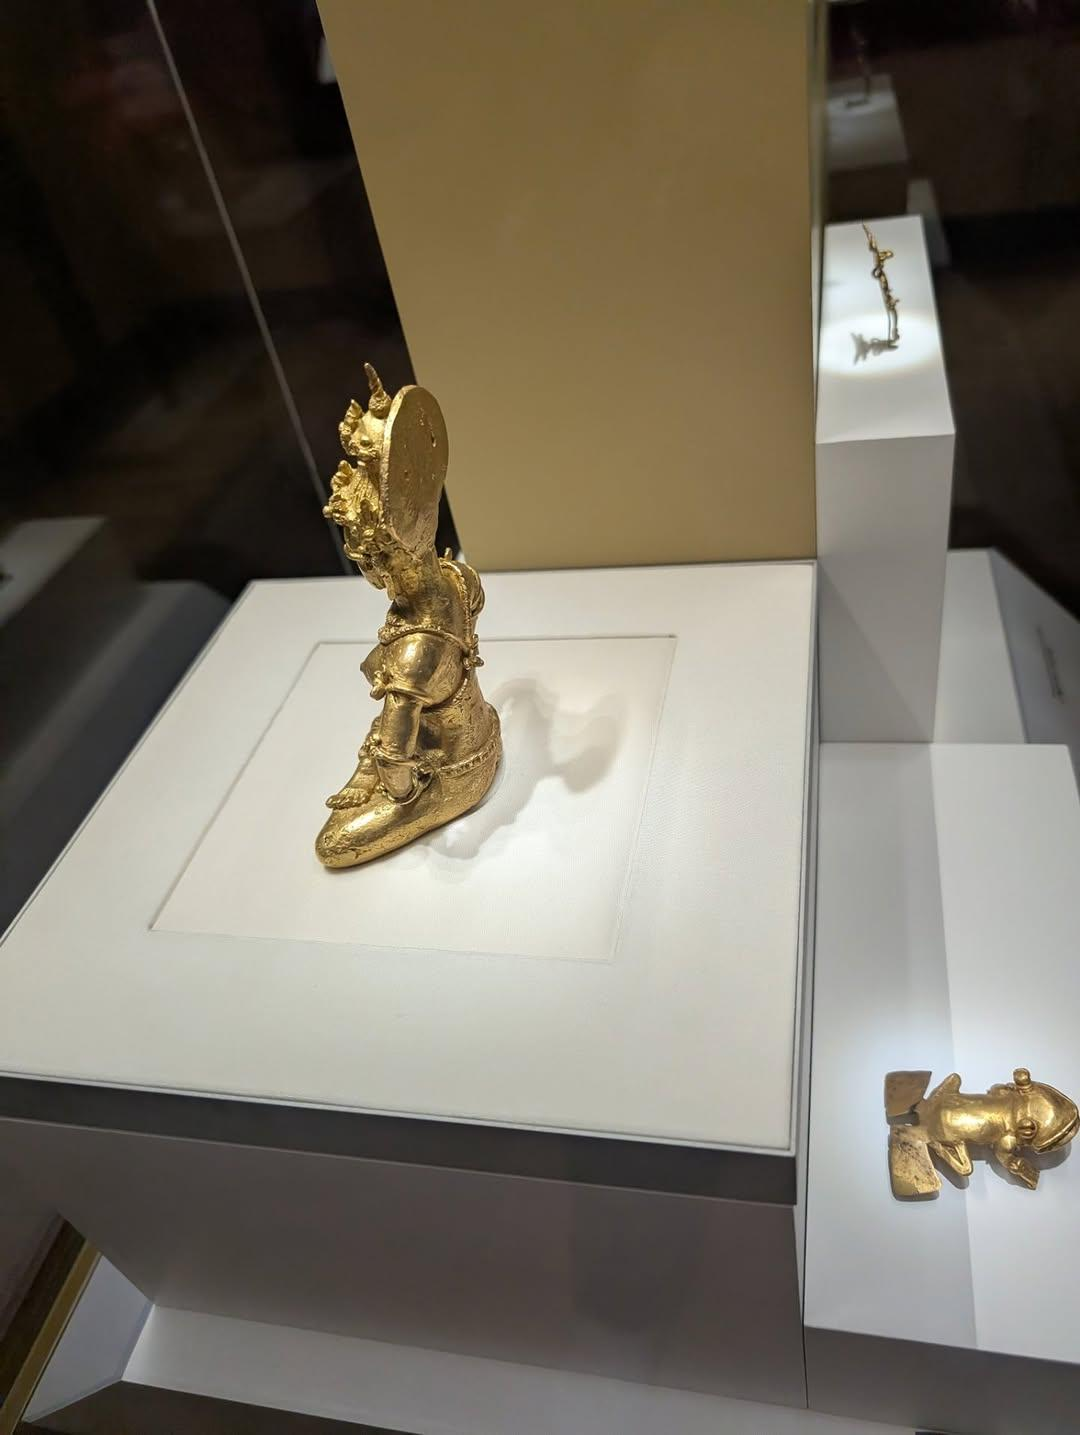golden_tara_of_agusan: (288, 360, 522, 880)
